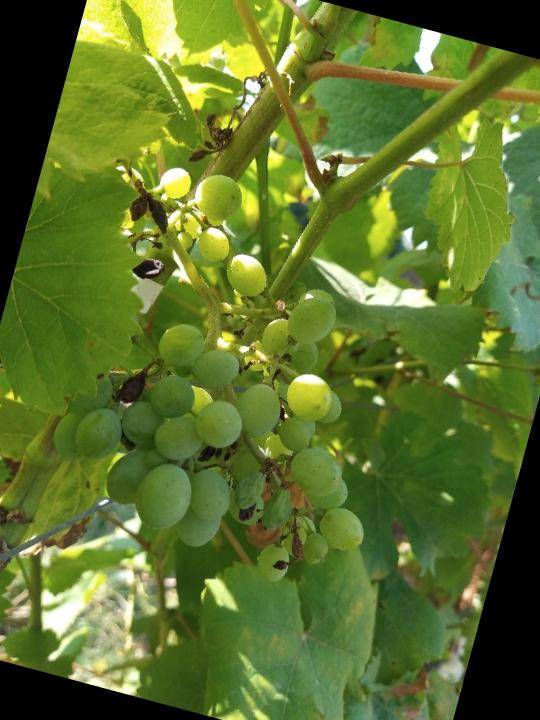grape: (22, 146, 449, 608)
